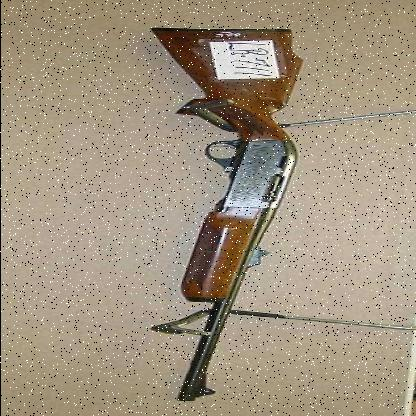rifle: (96, 18, 311, 409)
